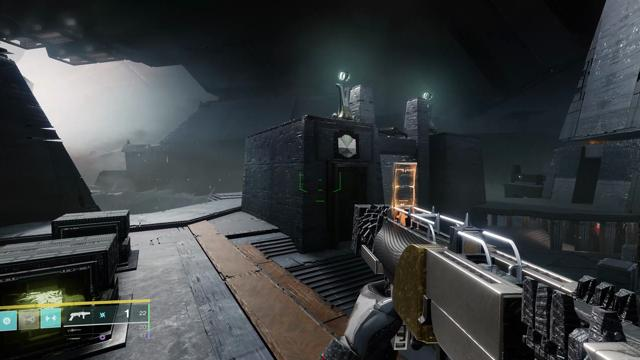commune: (338, 135, 356, 157)
kill: (592, 221, 600, 237)
